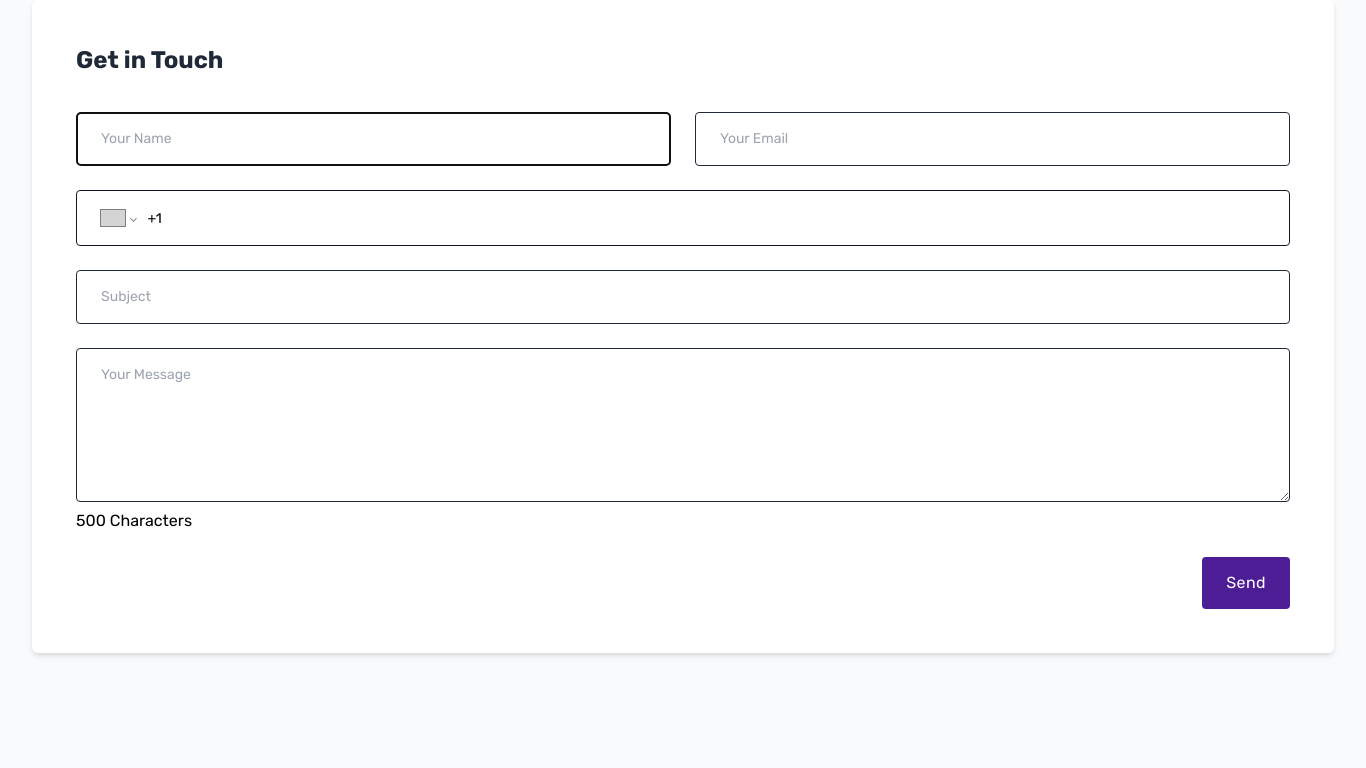
Test: Contact Component › closes modal when close button is clicked
The width and height of the screenshot is (1366, 768).
// Fill and submit form
In the field with placeholder "Your Name": (374, 139) [76, 112, 671, 166], type "John Doe"
In the field with placeholder "Your Email": (992, 139) [695, 112, 1290, 166], type "john@example.com"
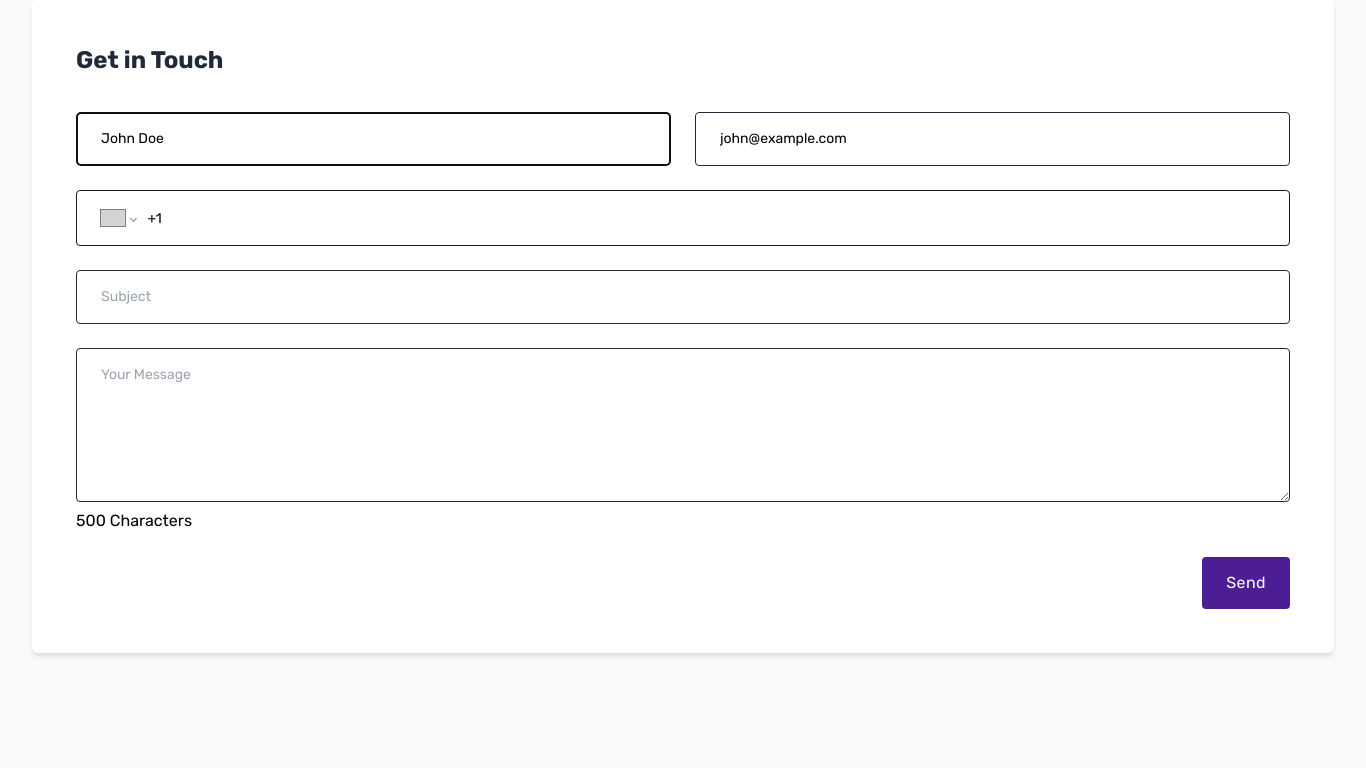
Replace the text in the field with placeholder "Phone Number" with "2025550123": (706, 218) [147, 208, 1265, 228]
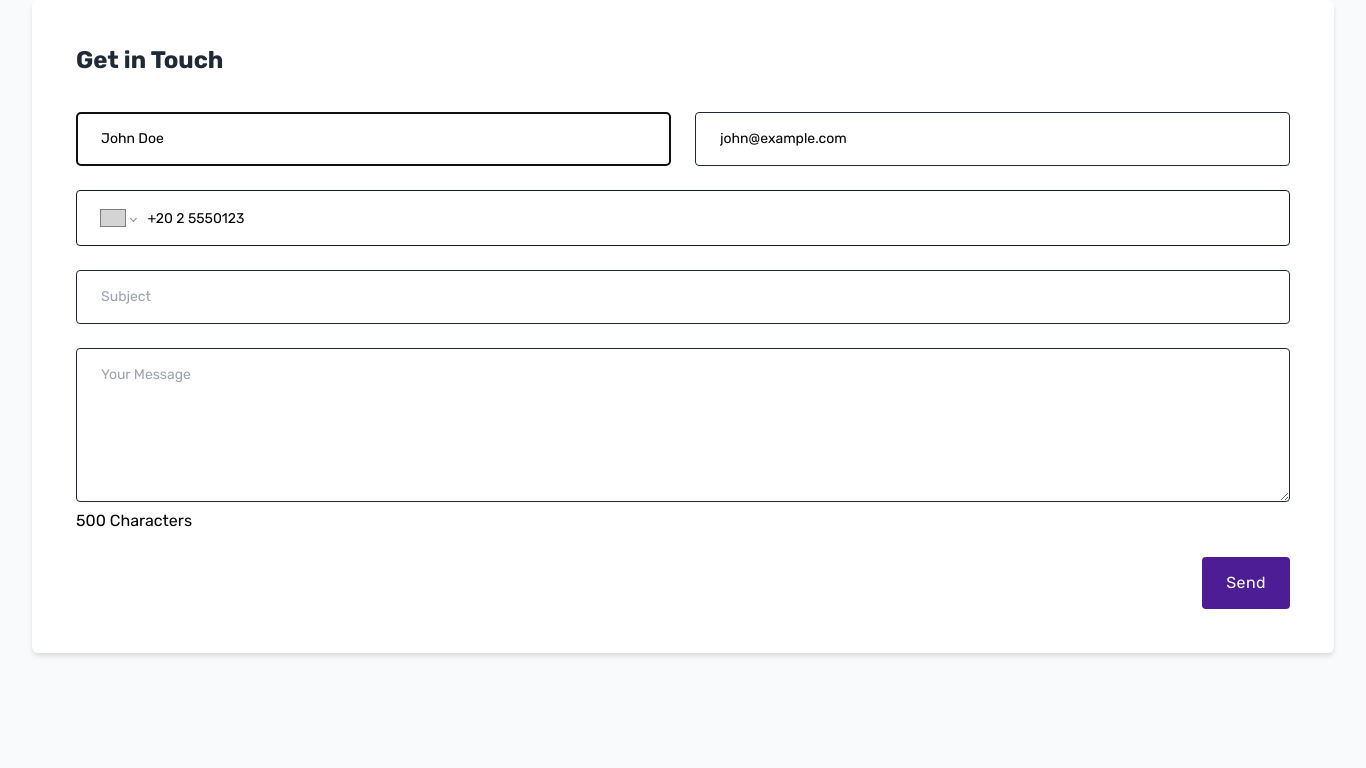
In the field with placeholder "Subject": (683, 297) [76, 270, 1290, 324], type "Test Subject"
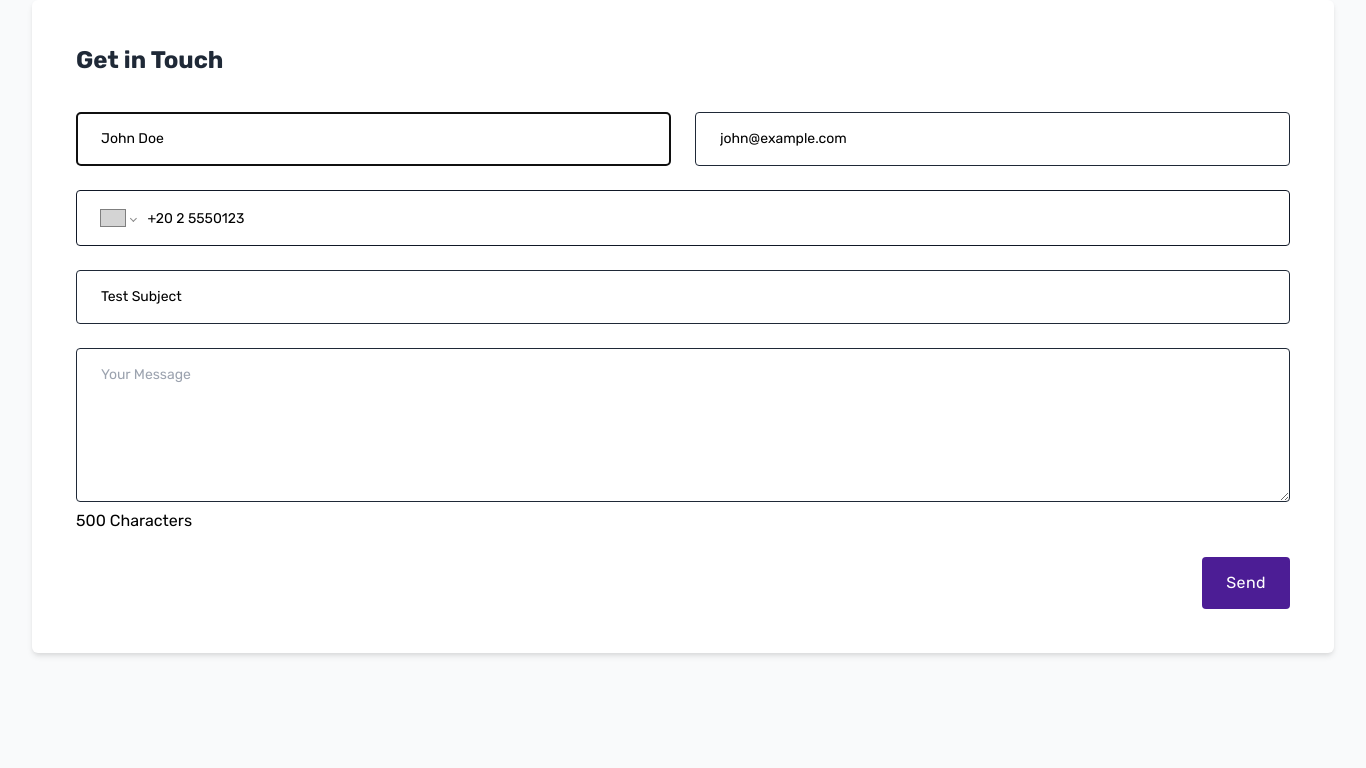
In the text box with placeholder "Your Message": (683, 425) [76, 348, 1290, 502], type "Test Message"
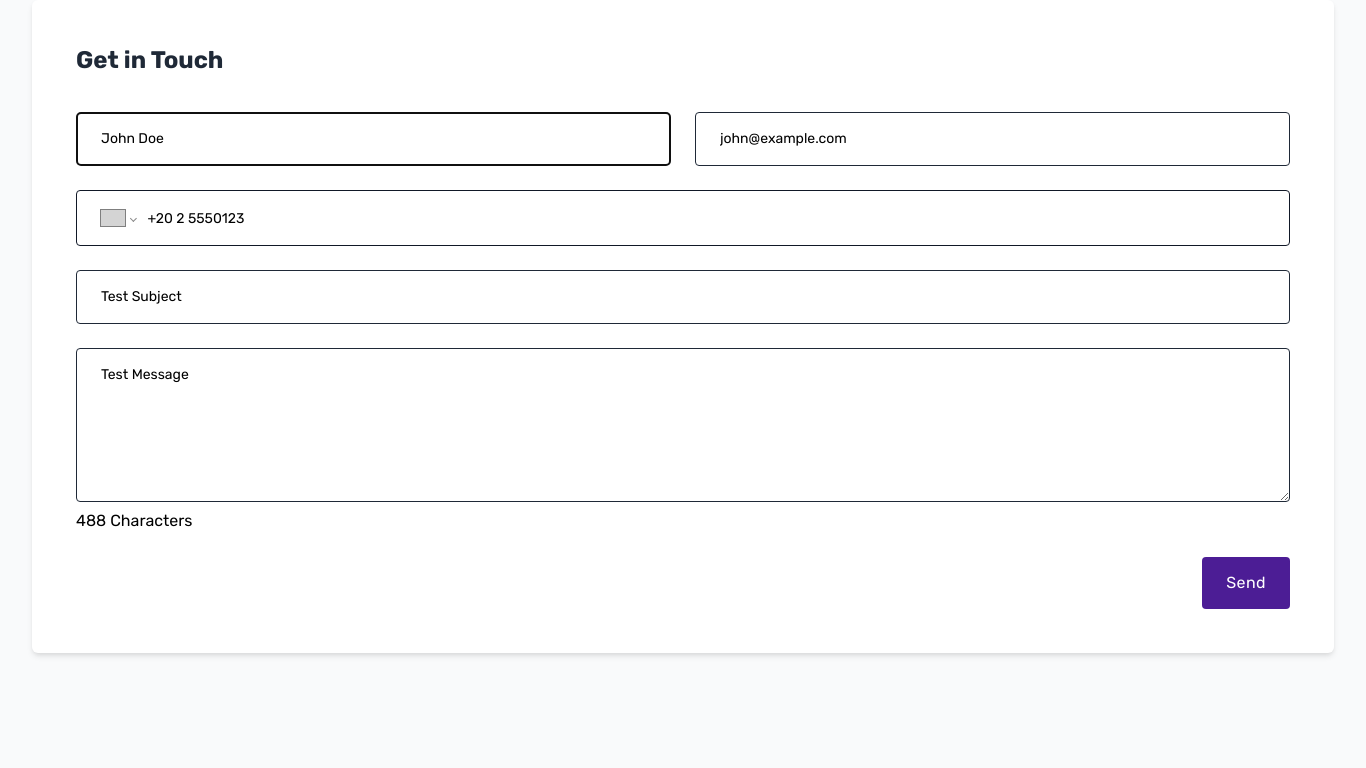
Click the button "Send": (1246, 583) [1202, 557, 1290, 609]
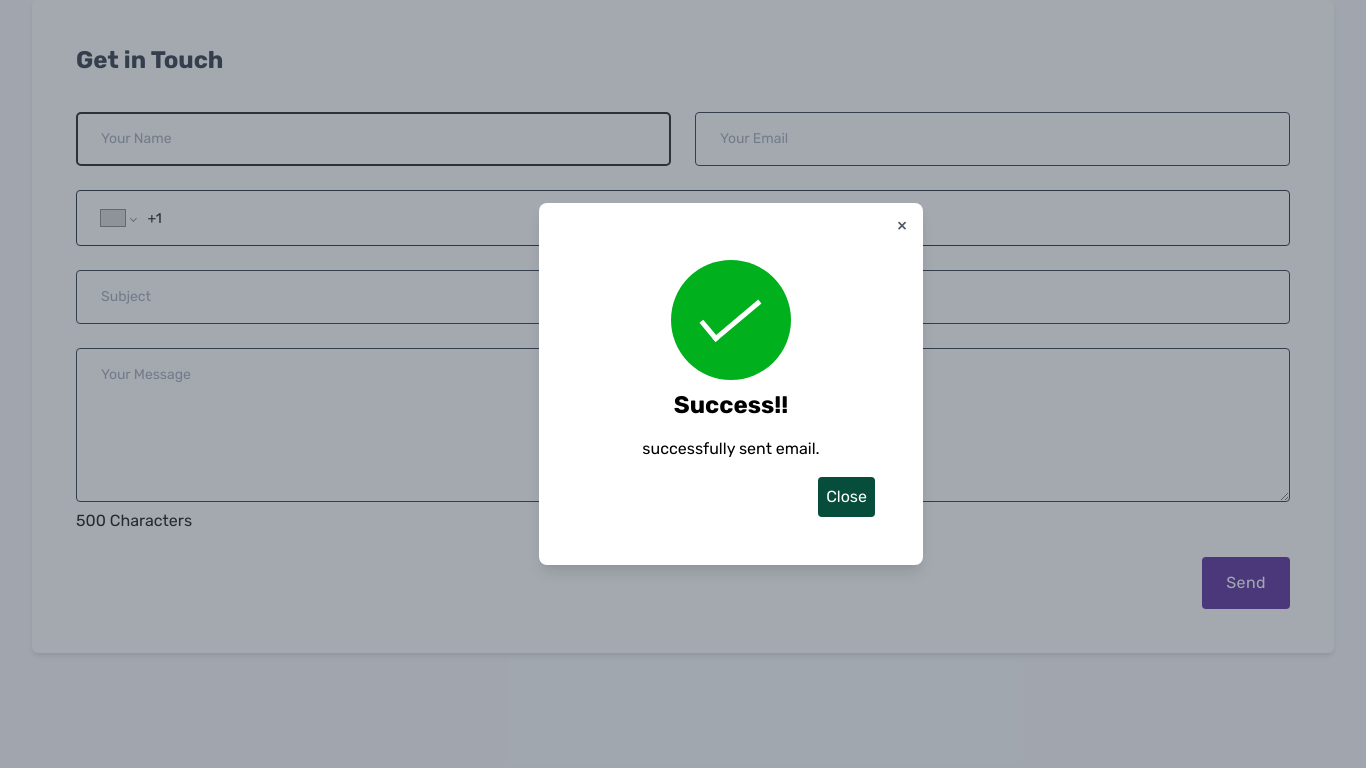
Result: the heading "Success!!" is shown at [674, 391, 788, 419]
Click the button "Close": (847, 497) [818, 477, 875, 517]
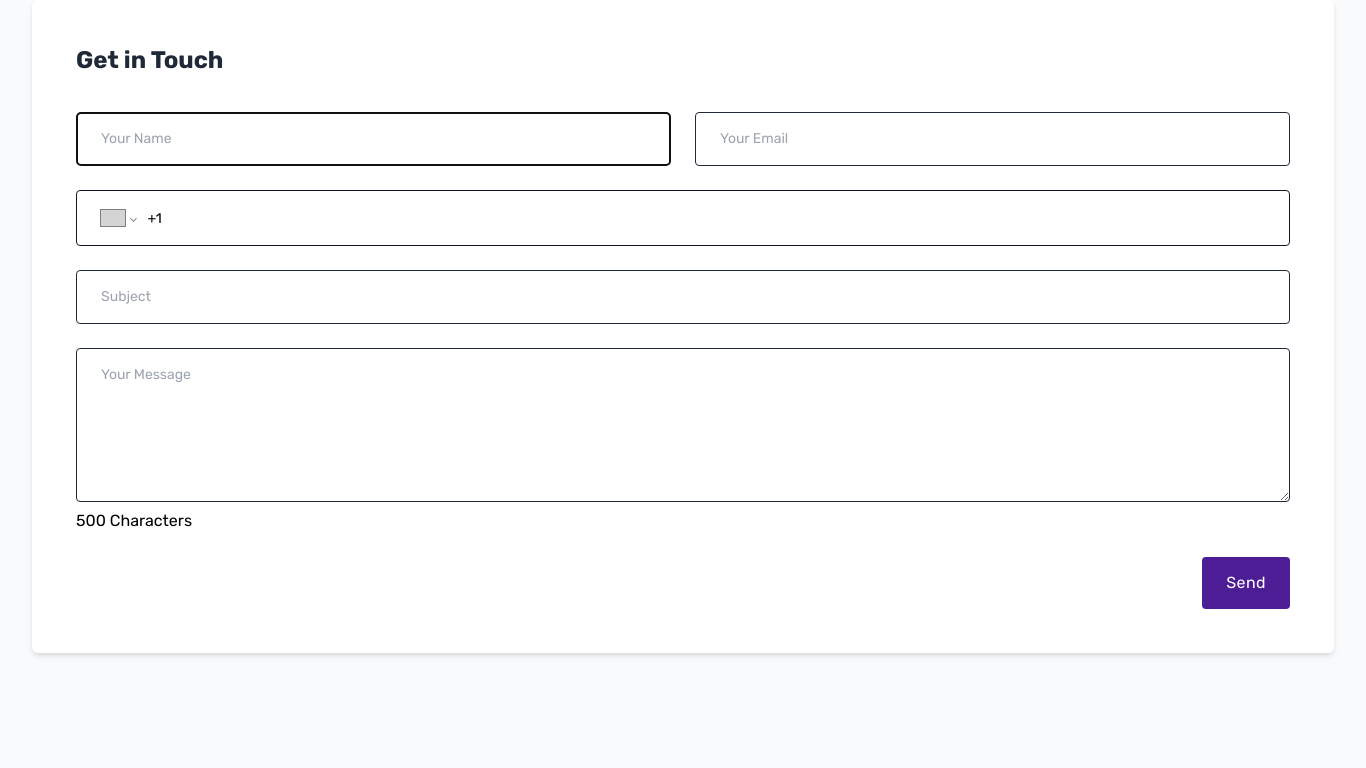
Result: the heading "Success!!" is gone
